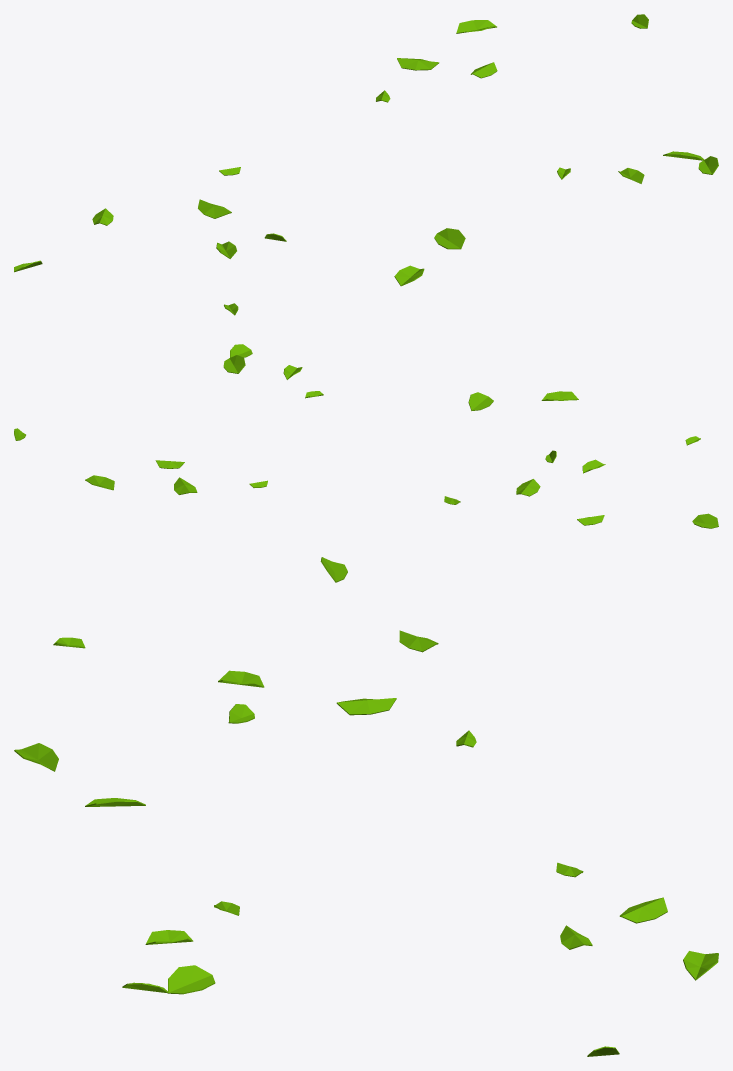
The model's file is Leaves_pile_2.fbx.
The picture shows the model from 3 angles, top to bottom: view 1: azimuth 30°, elevation 25°; view 2: azimuth 150°, elevation 25°; view 3: azimuth 270°, elevation 25°; orthographic projection. The views are drawn at different scales.
Parts seen in each view (by area): view 1: Leaves_pile.2; view 2: Leaves_pile.2; view 3: Leaves_pile.2.
Boxes of the visible parts, x1,y1,x2,y2 form: Leaves_pile.2: [14, 14, 718, 315]; Leaves_pile.2: [14, 344, 718, 528]; Leaves_pile.2: [14, 557, 718, 1056].
Bounding box in the file's own units: 491 × 5.86 × 294.
